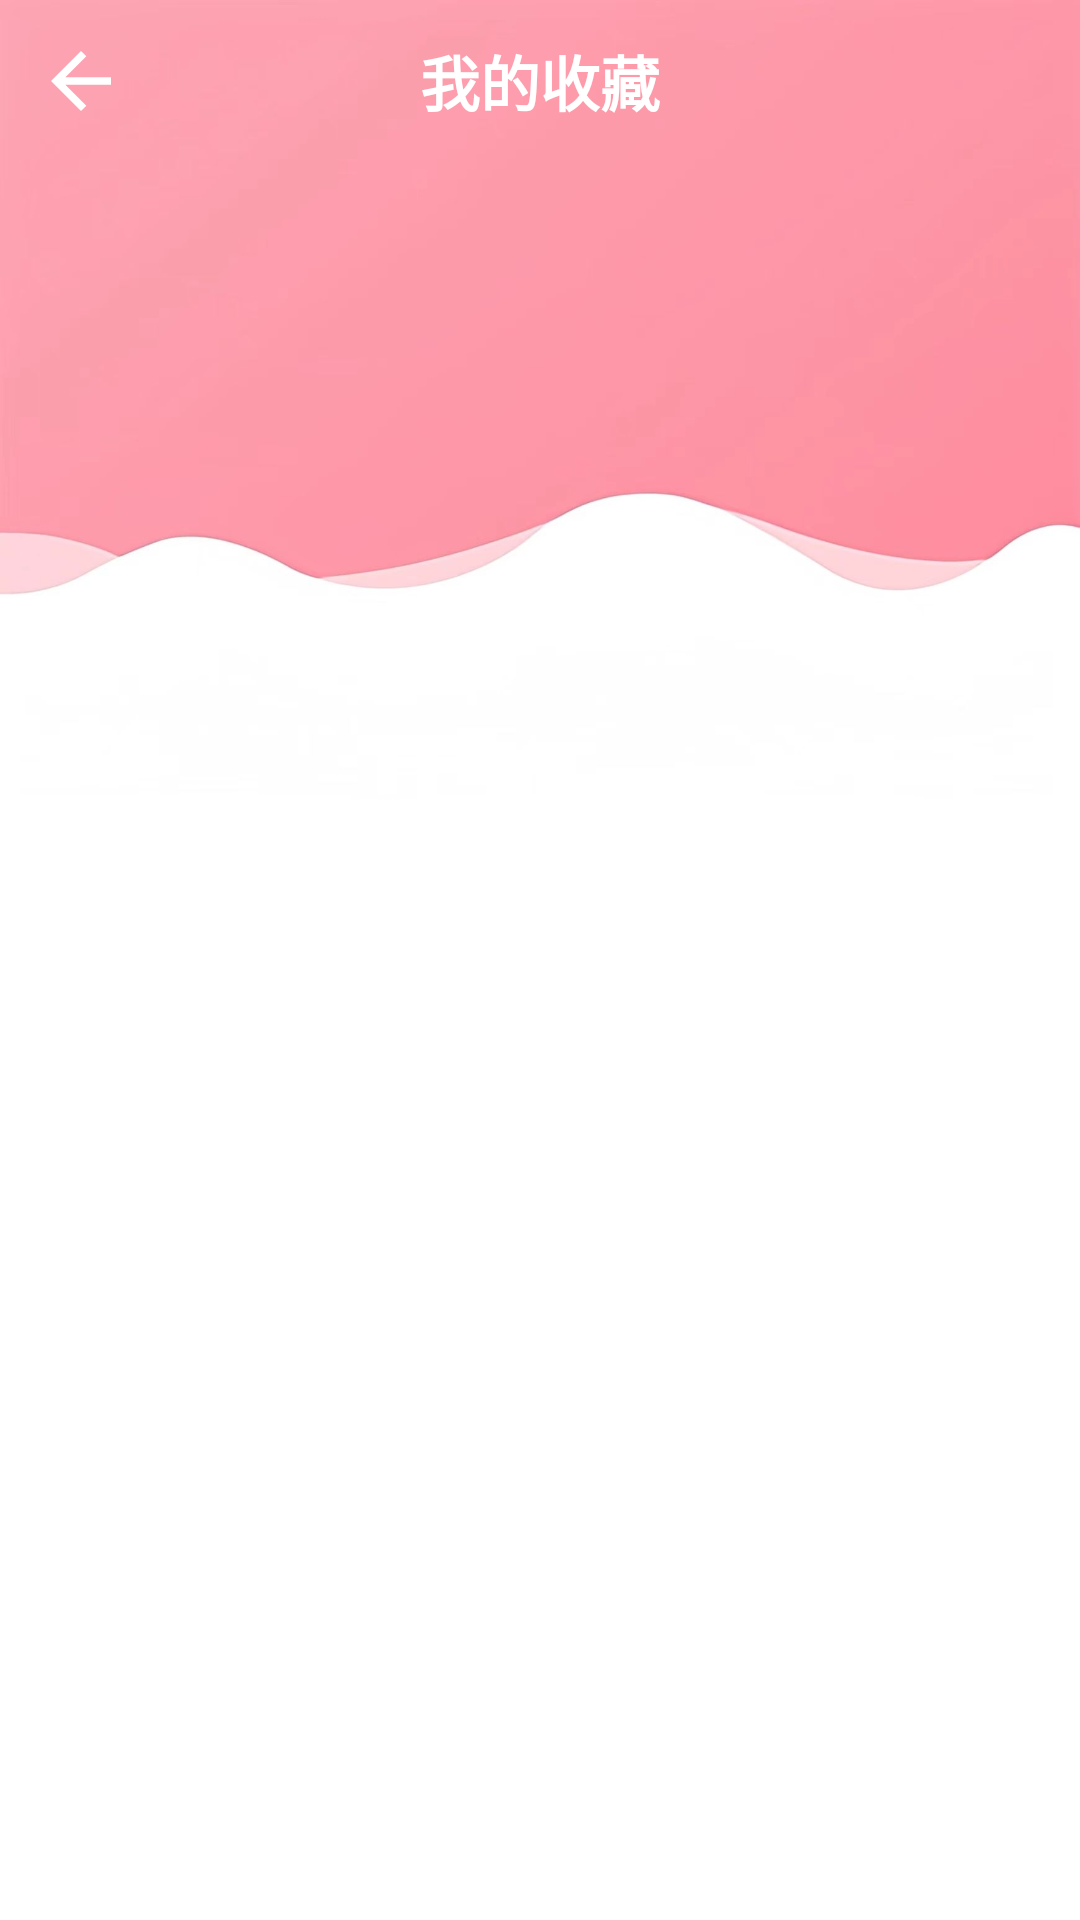

Named icons in this screenshot (1080*1920) and their bounding boxes, [x1,y1,x2,y2]:
back: [51,51,111,111]
